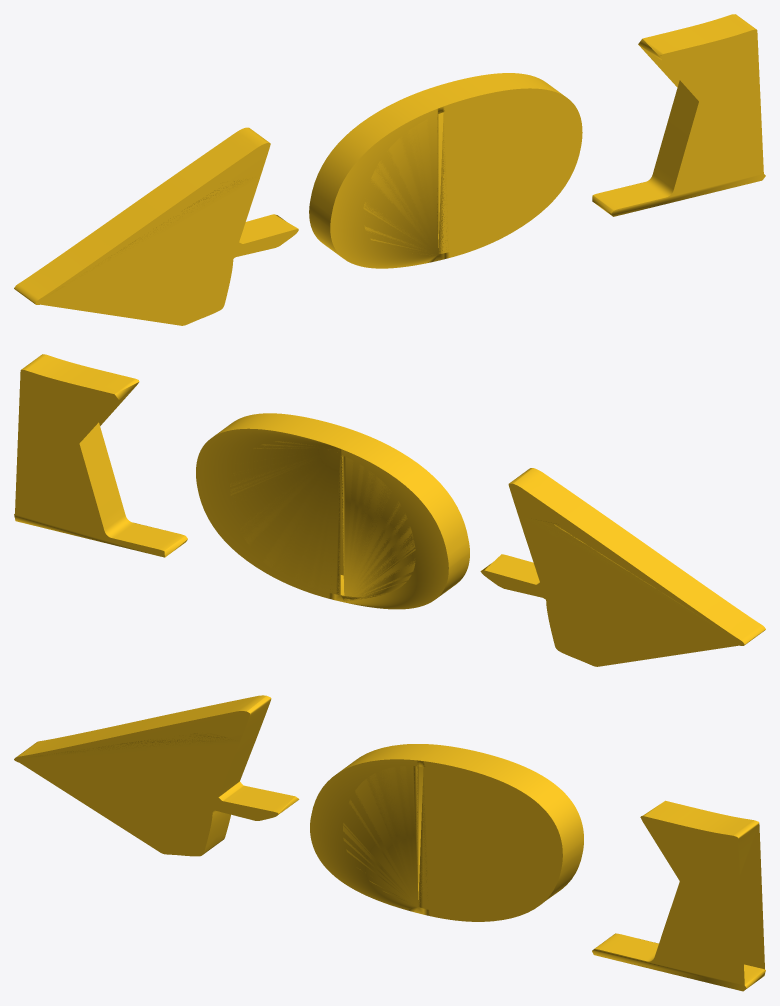
The picture shows the model from 3 angles, top to bottom: view 1: azimuth 30°, elevation 25°; view 2: azimuth 150°, elevation 25°; view 3: azimuth 330°, elevation 25°; orthographic projection.
Parts seen in each view (by area): view 1: T_401_LOD0; view 2: T_401_LOD0; view 3: T_401_LOD0.
Boxes of the visible parts, bbox=[...] form: T_401_LOD0: bbox=[14, 14, 765, 325]; T_401_LOD0: bbox=[14, 354, 765, 666]; T_401_LOD0: bbox=[14, 695, 765, 991].
Size of what is drawn, in the model's own units: 18.2 by 3.86 by 0.9122.
